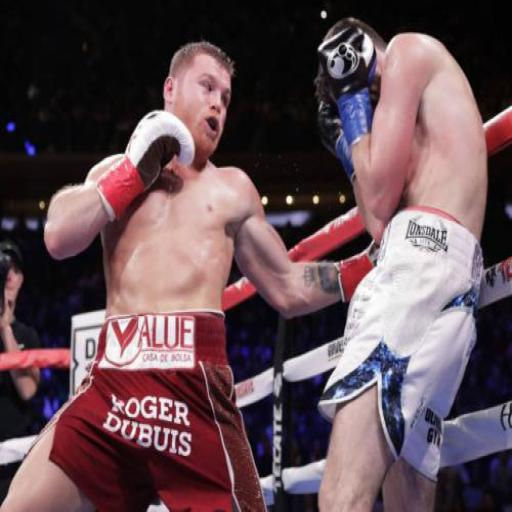boxing: (0, 10, 496, 512)
